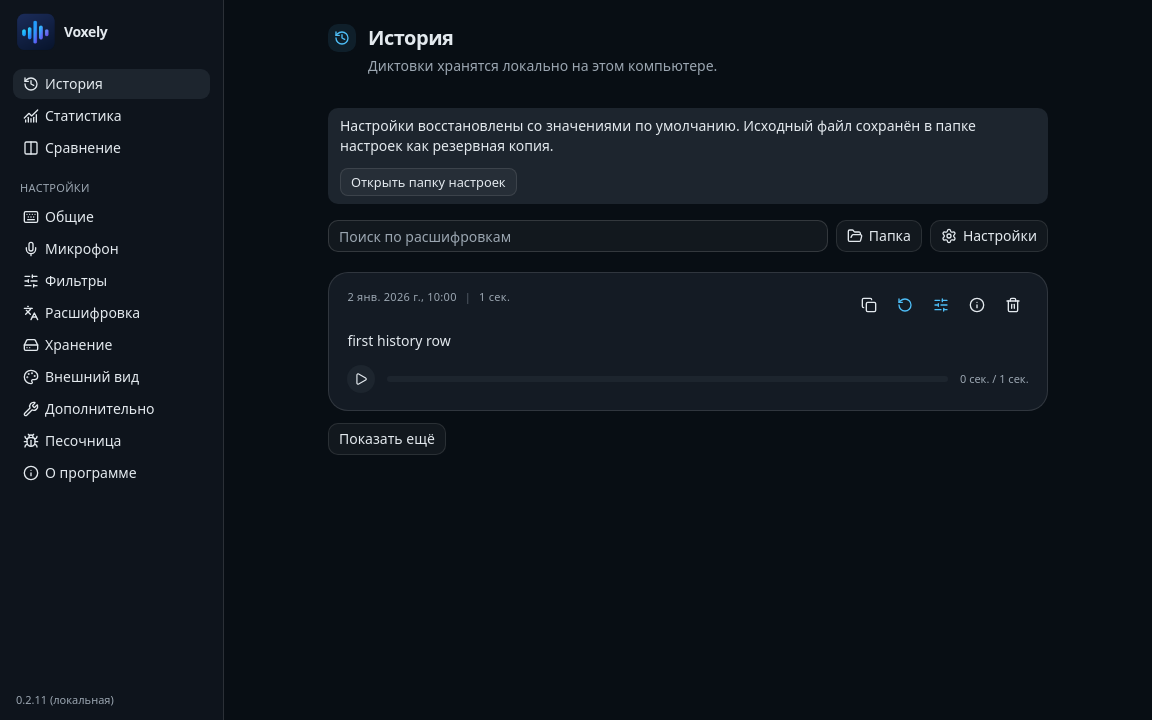
Test: MainApp › retries a failed history page with the same cursor and appends its result
This screenshot has width=1152, height=720.
expect the text "first history row" is shown: met, box [347,331,451,350]
Step 1. Click the button "Показать ещё" → point(387, 439), box [328,423,446,455]
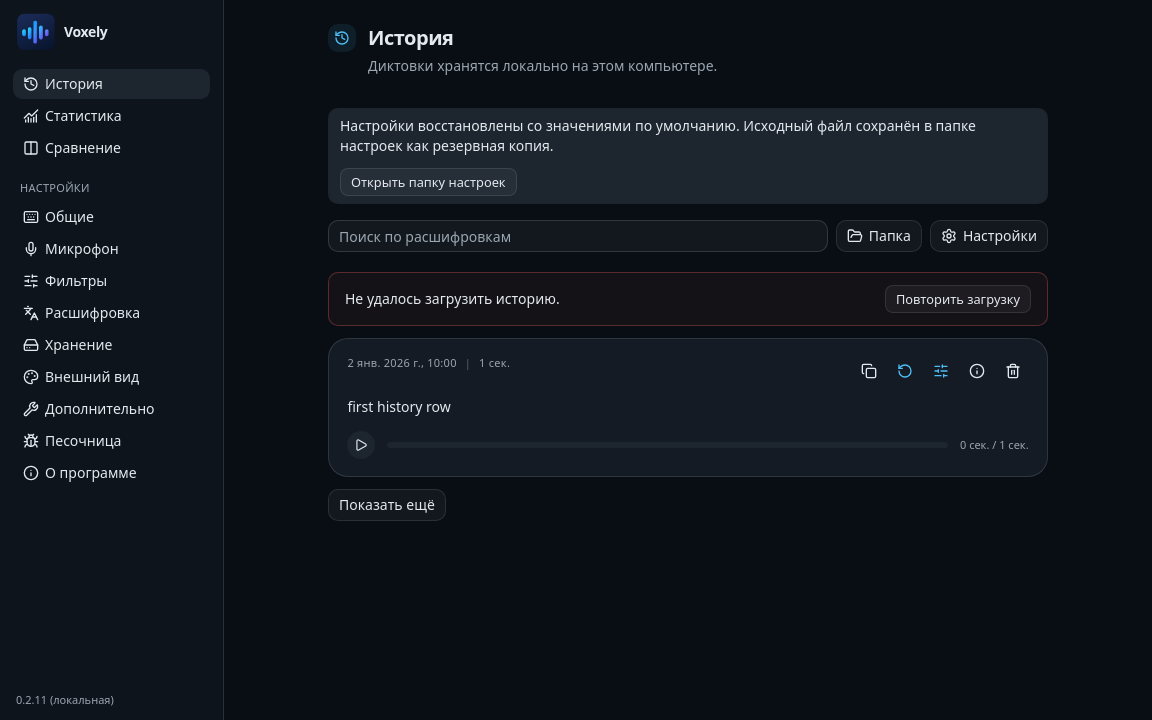
expect the message shows "Не удалось загрузить историю.": met, box [345,289,560,308]
Step 2. Click the button "Повторить загрузку" → point(958, 299), box [885,285,1031,313]
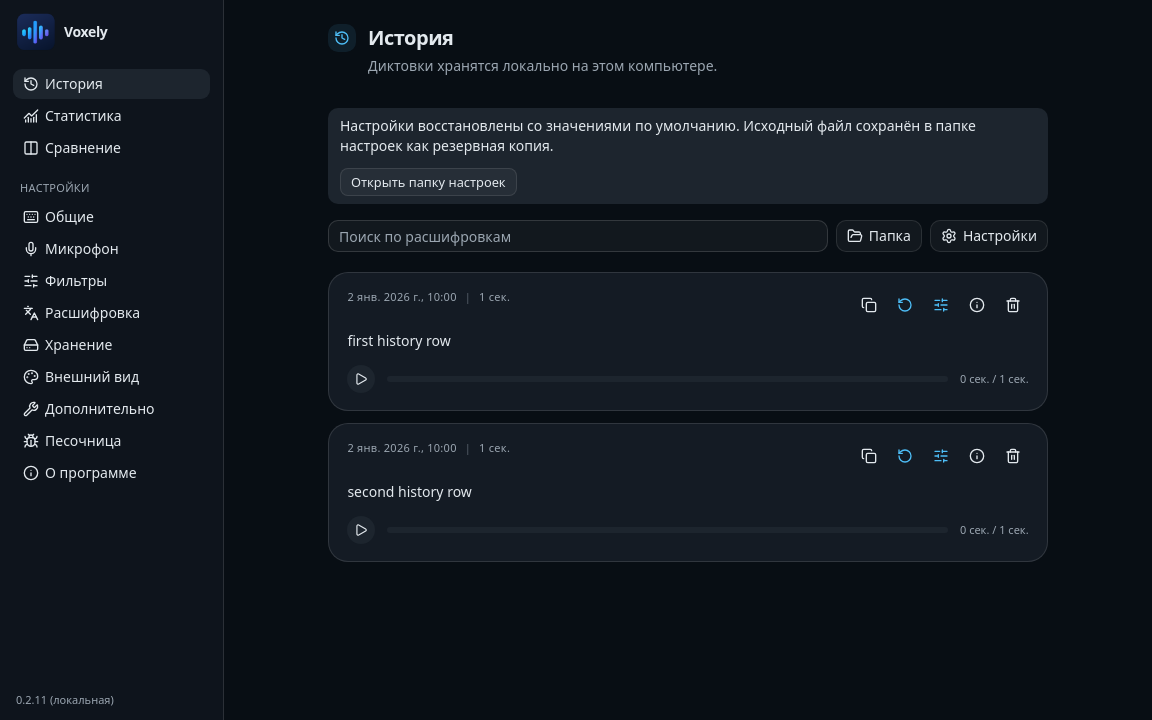
expect the text "second history row" is shown: met, box [347,482,472,501]
expect the button "Показать ещё" is gone: met
